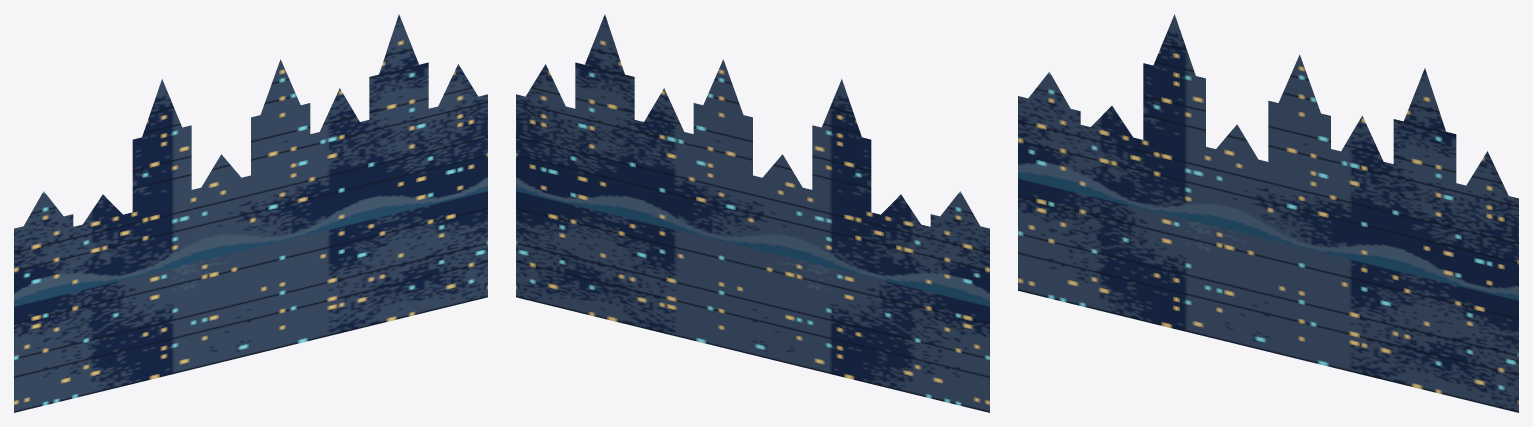
Rendered from cysky.needle.glb.
3 views of the same model, side by side, from view 1: azimuth 30°, elevation 25°; view 2: azimuth 150°, elevation 25°; view 3: azimuth 330°, elevation 25° (orthographic). The views are drawn at different scales.
Parts seen in each view (by area): view 1: kit_card_skyline; view 2: kit_card_skyline; view 3: kit_card_skyline.
Boxes of the visible parts, x1,y1,x2,y2 form: kit_card_skyline: (14, 14, 487, 412); kit_card_skyline: (516, 14, 989, 412); kit_card_skyline: (1018, 14, 1518, 412).
Size of the model in its own units: 56 by 34.45 by 0.
Materials: 1 (1 with a texture image).
